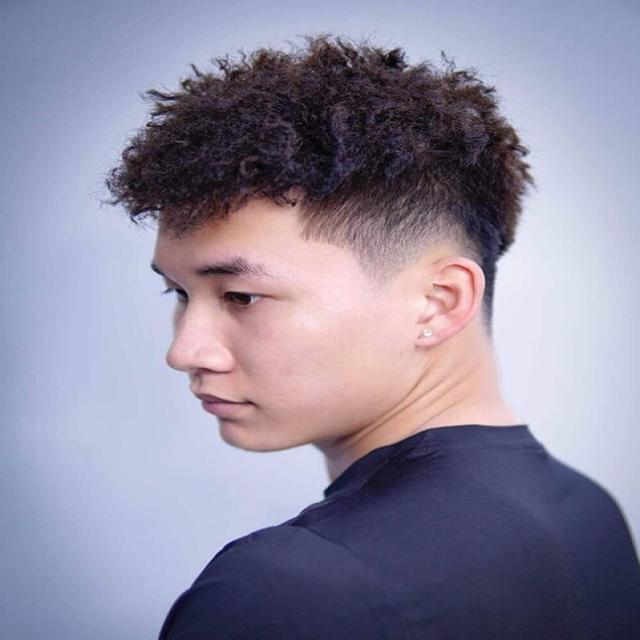Nonhelmet: (95, 23, 546, 460)
